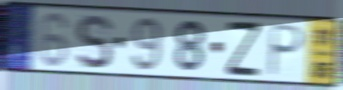6: (38, 10, 70, 69)
8: (173, 18, 207, 74)
9: (129, 15, 164, 73)
P: (265, 22, 307, 78)
S: (74, 12, 114, 71)
Z: (225, 19, 262, 77)
